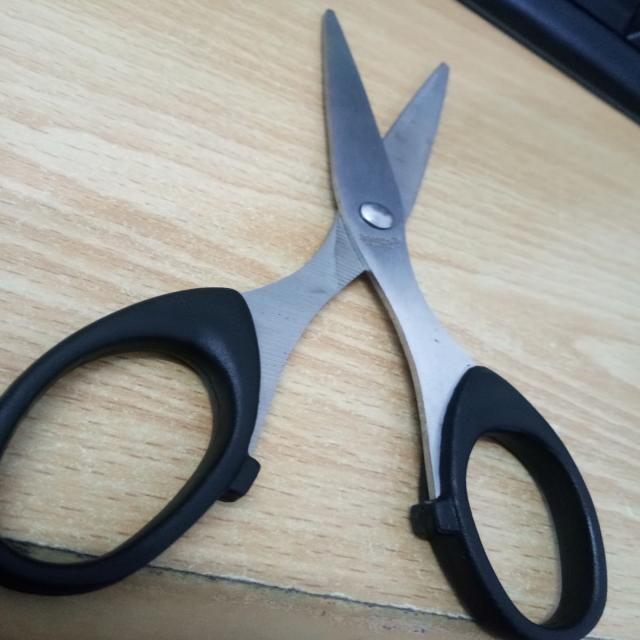scissors: (0, 0, 617, 640)
